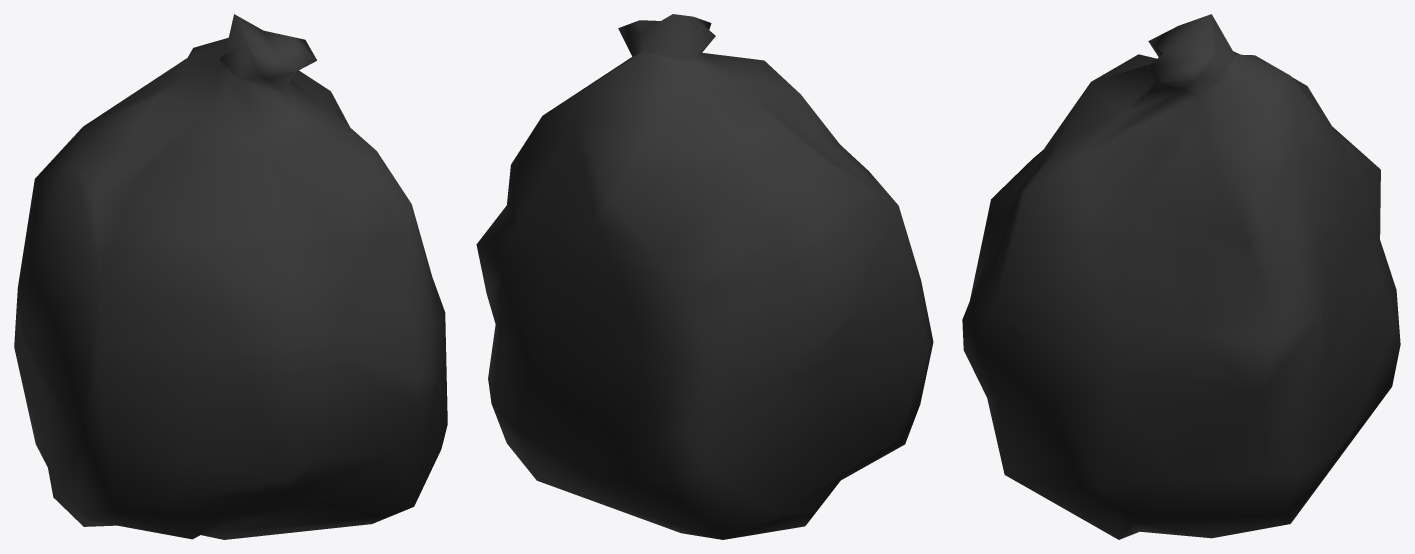
File: Trash Bag.fbx
The picture shows the model from 3 angles, left to right: view 1: azimuth 30°, elevation 25°; view 2: azimuth 150°, elevation 25°; view 3: azimuth 270°, elevation 25°; orthographic projection. The views are drawn at different scales.
Parts seen in each view (by area): view 1: Trash_Bag; view 2: Trash_Bag; view 3: Trash_Bag.
Part boxes in pixels (box(x1,y1,x2,y2)): Trash_Bag: box(14, 14, 447, 539); Trash_Bag: box(476, 14, 933, 539); Trash_Bag: box(962, 14, 1400, 539).
Size of the model in its own units: 57.32 by 73.45 by 59.12.
